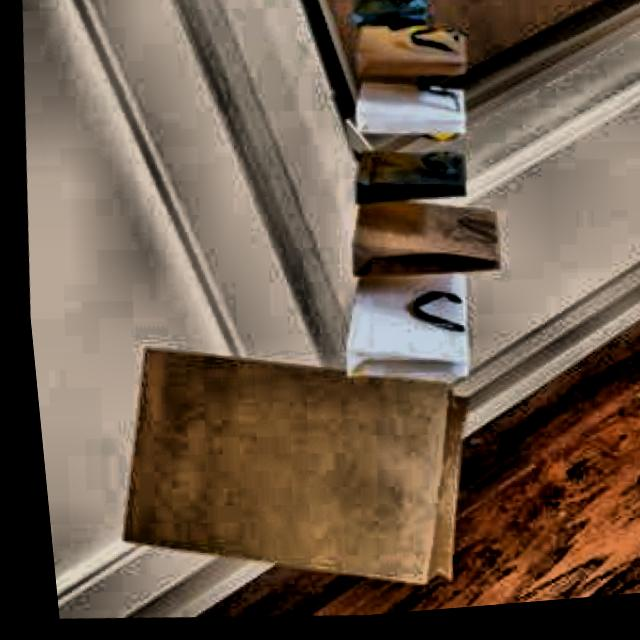Paper-bag: (82, 314, 500, 614), (311, 0, 521, 406)
